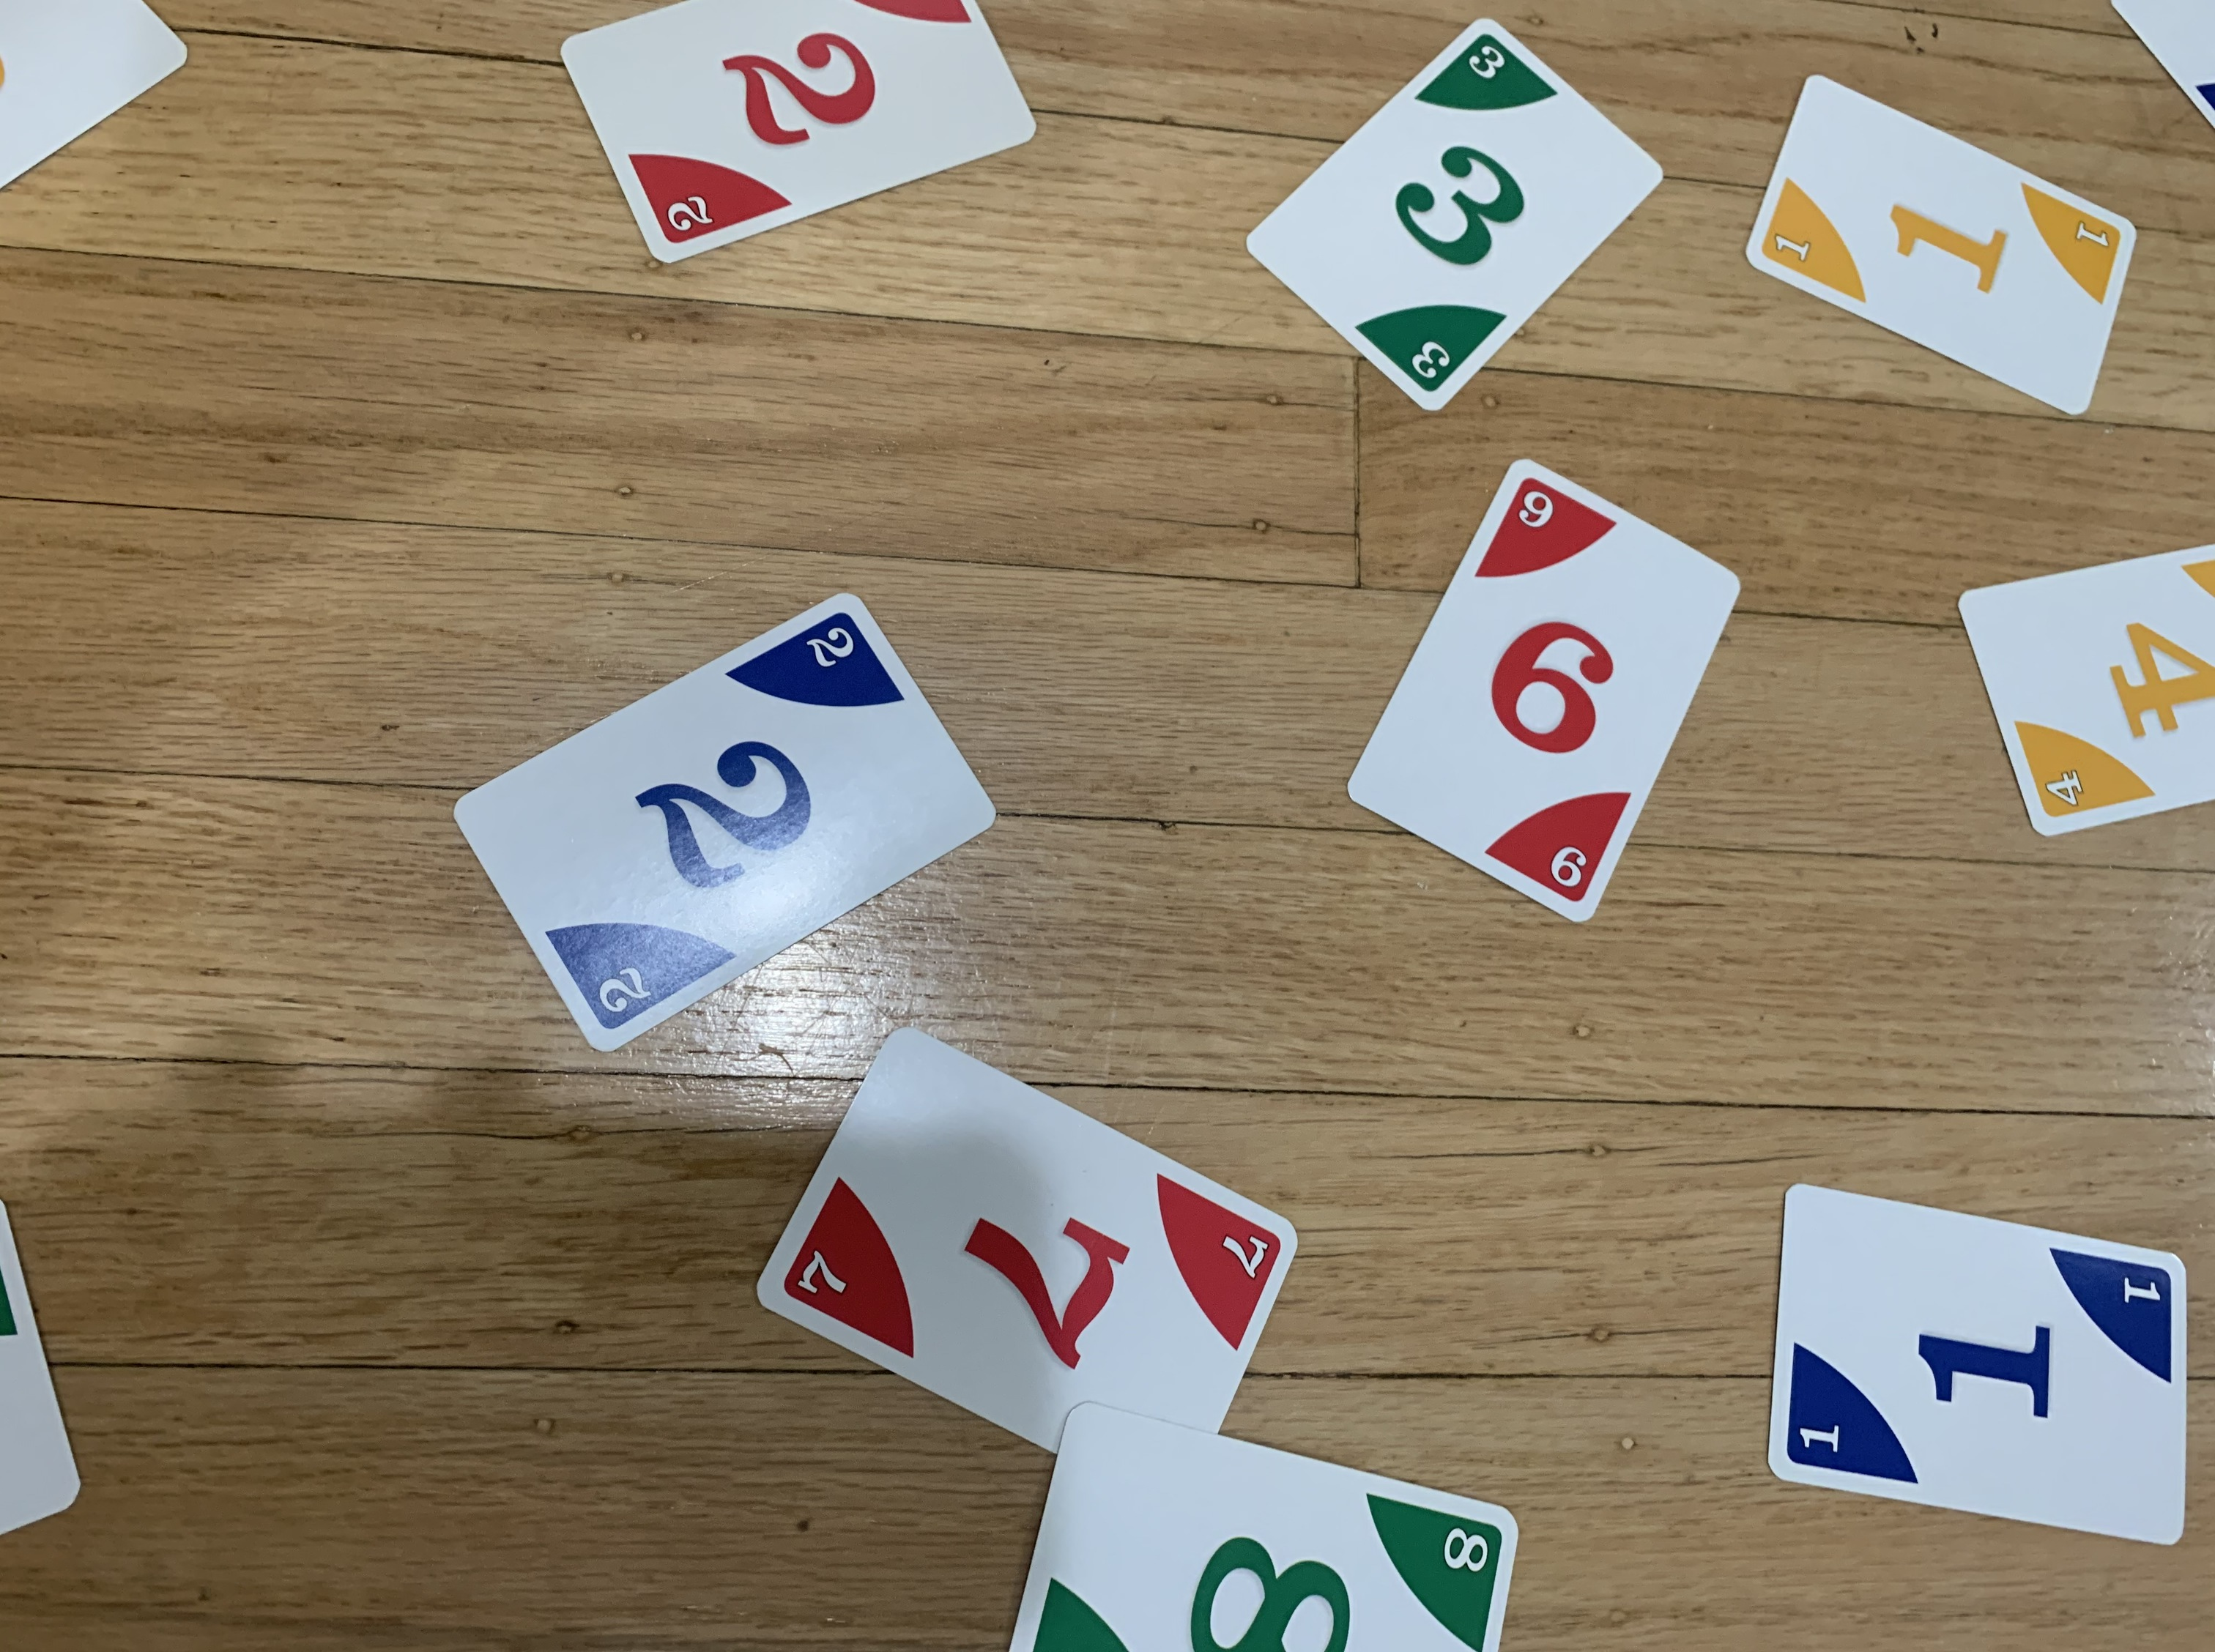one: (1753, 1177, 2206, 1562), (1727, 66, 2153, 453)
seven: (750, 1017, 1318, 1525)
six: (1347, 449, 1743, 932)
three: (1239, 12, 1661, 418)
two: (453, 581, 1015, 1041), (552, 2, 1052, 264)
